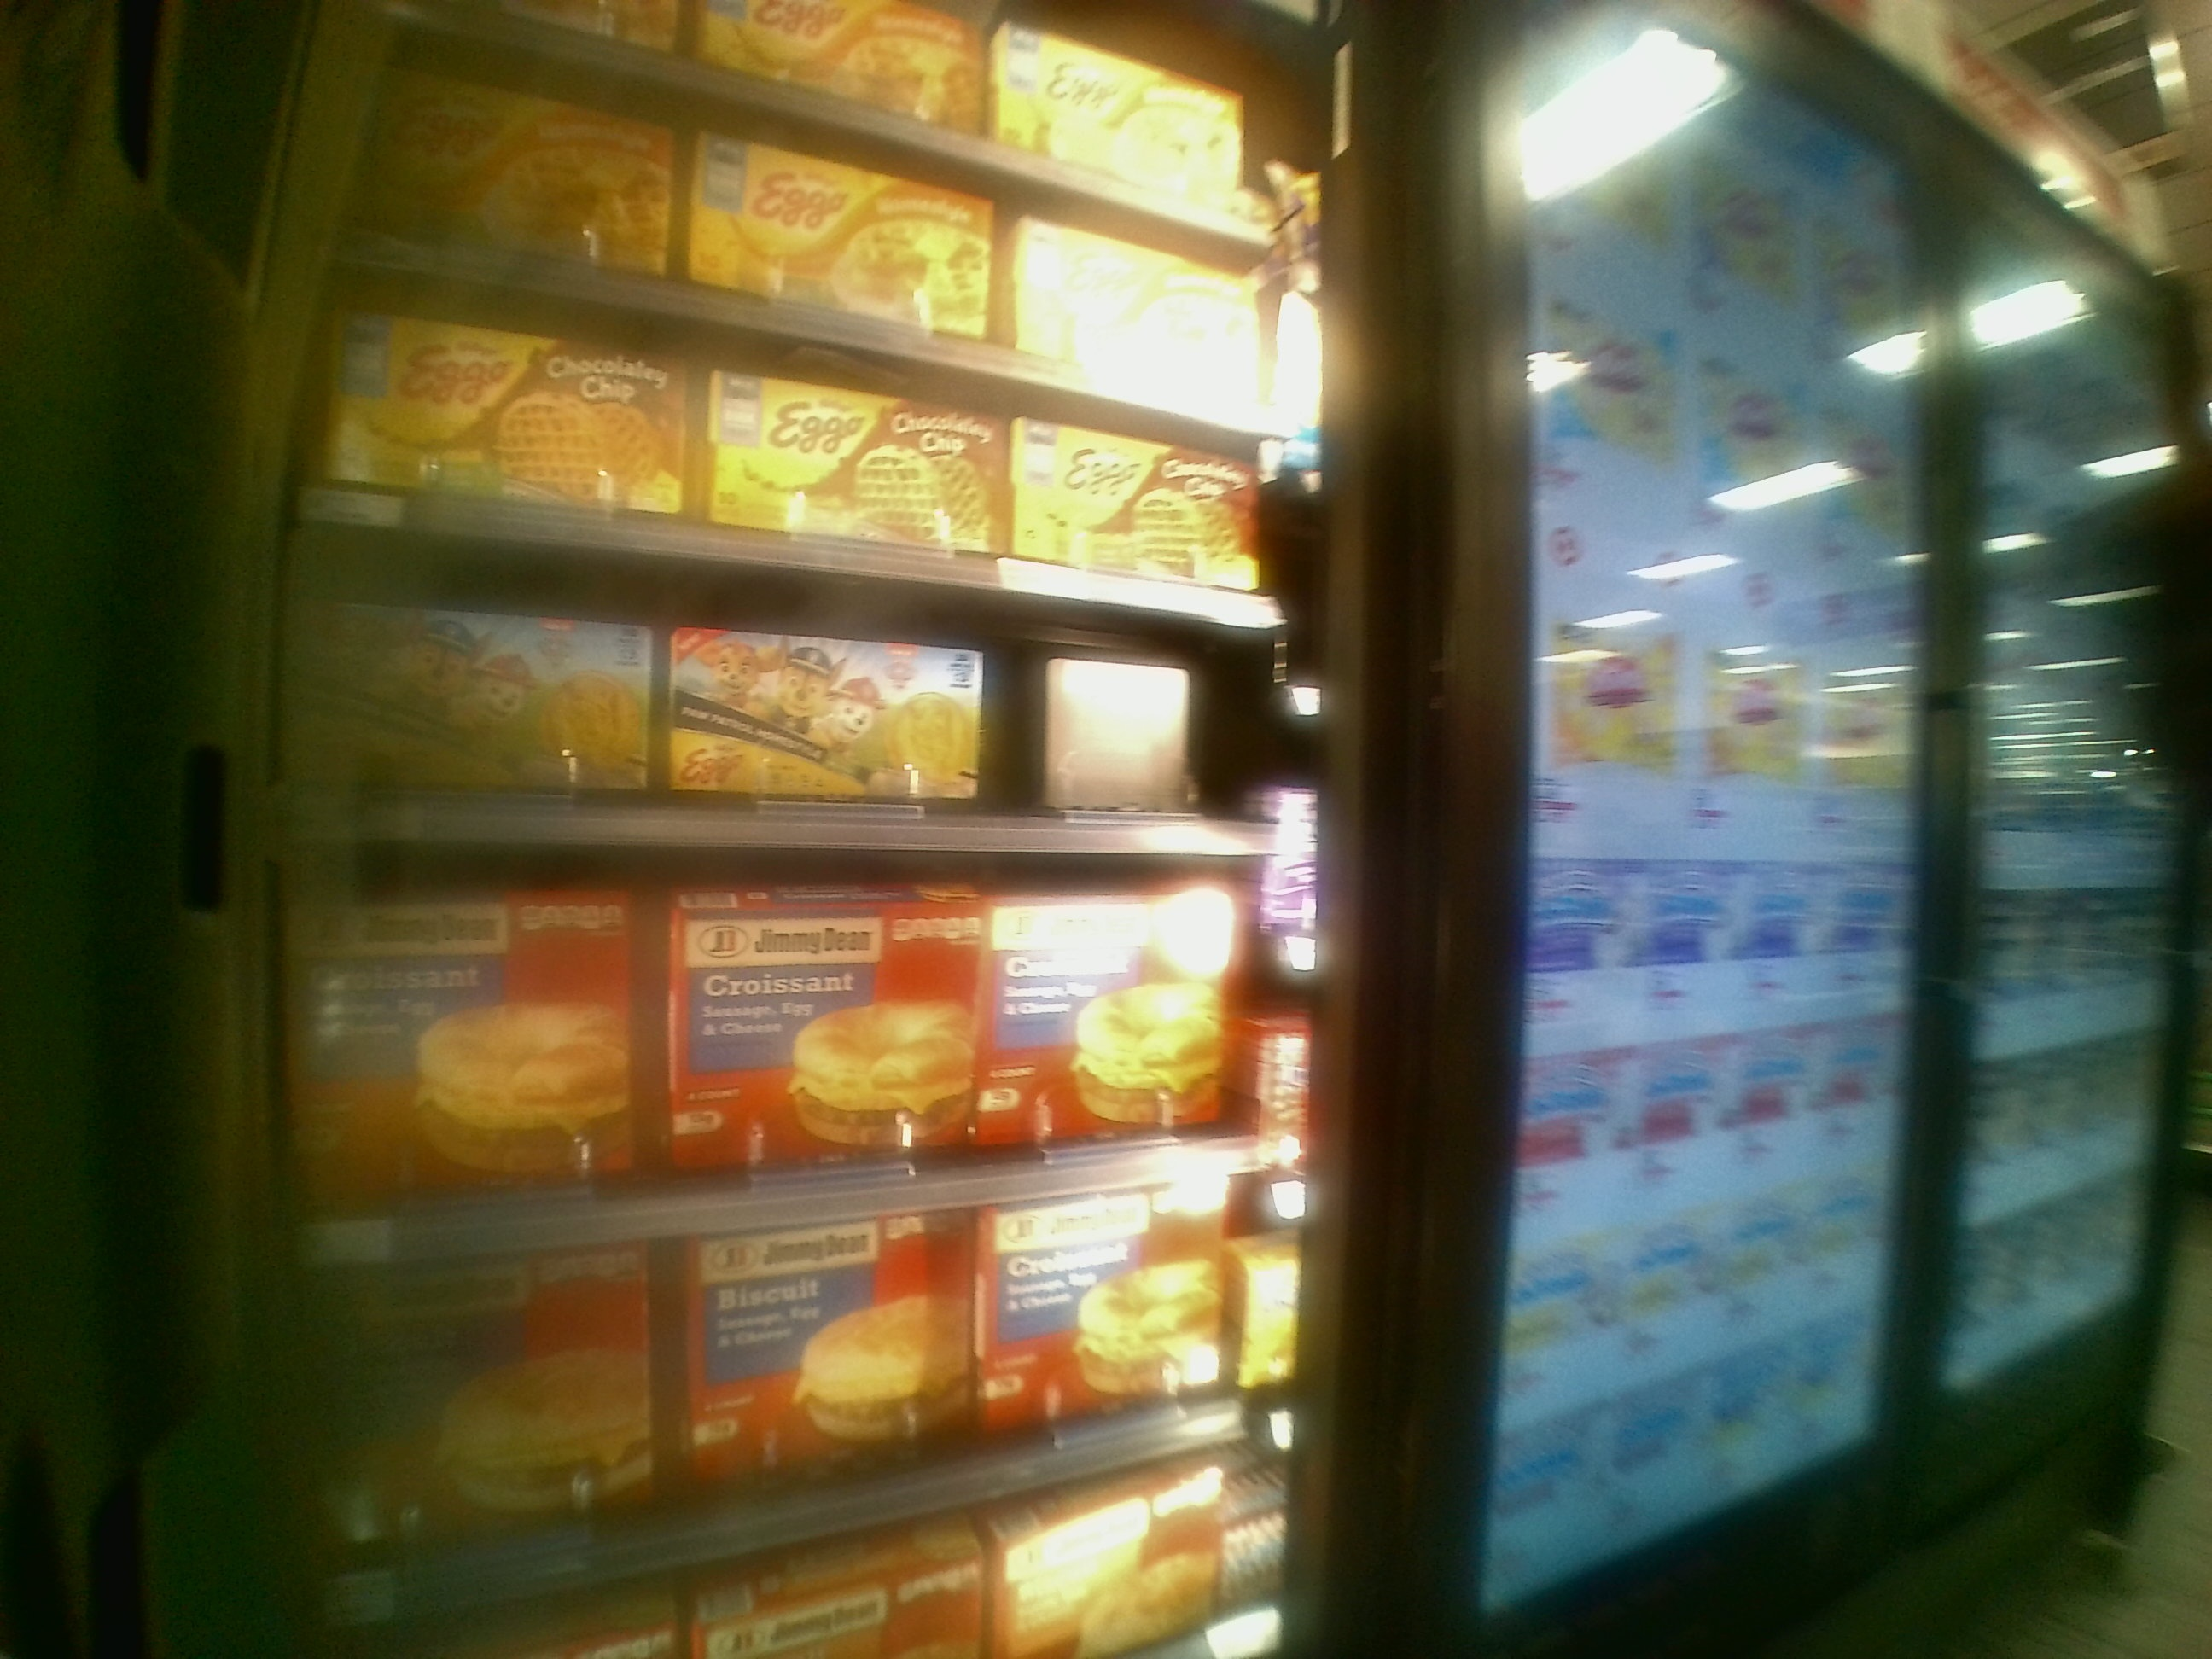shelf: (296, 849, 1322, 1246), (308, 521, 1298, 847)
